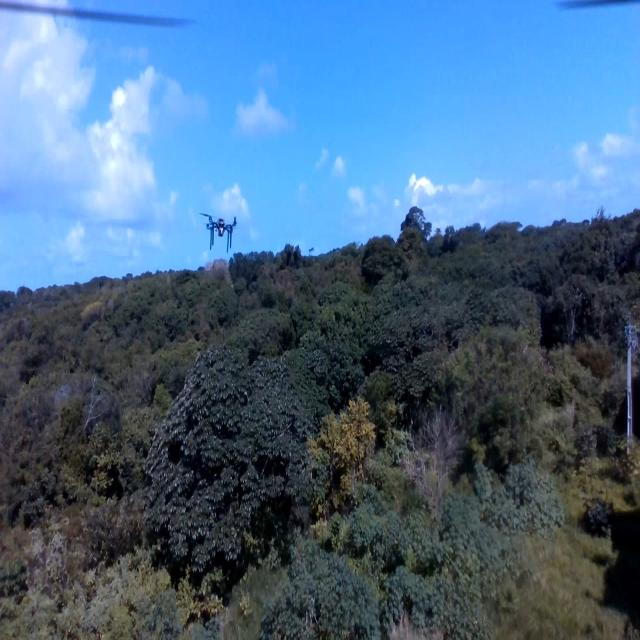-uav-: (195, 203, 241, 257)
